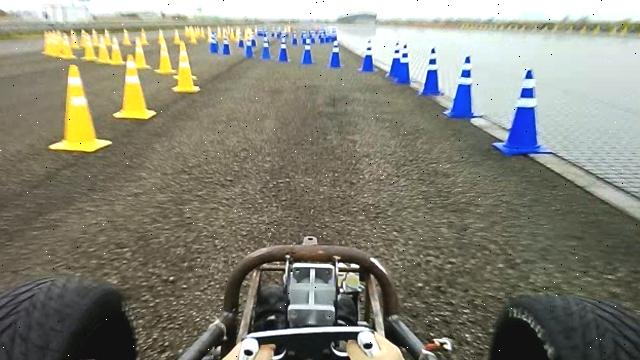blue cone: (492, 68, 555, 156), (443, 55, 482, 118), (419, 47, 444, 96), (357, 39, 378, 73), (395, 43, 411, 84), (386, 41, 402, 78), (326, 40, 344, 69), (261, 36, 272, 59), (209, 35, 219, 53)
yellow cone: (49, 63, 112, 153), (113, 60, 157, 120), (65, 64, 86, 109), (134, 38, 151, 69), (110, 38, 125, 65)
